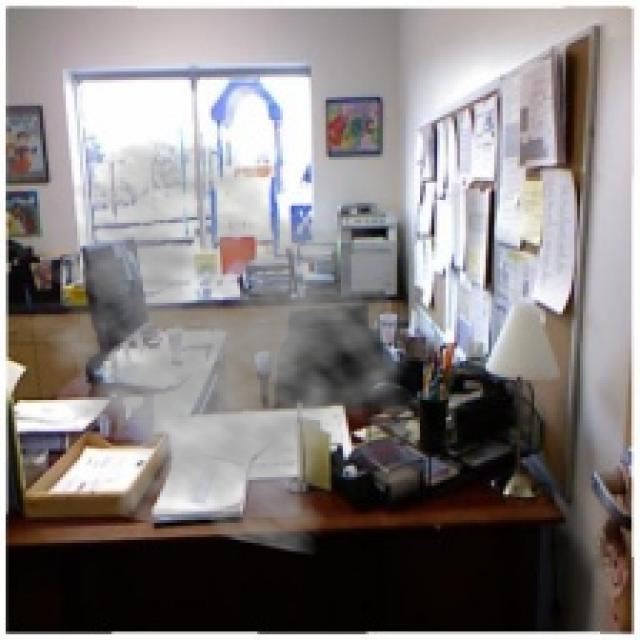smoke: (3, 137, 428, 557)
